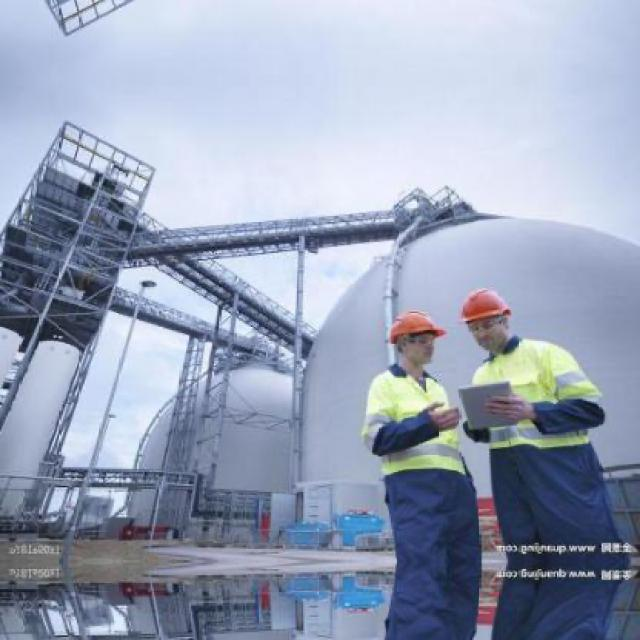helmet: (385, 305, 449, 372), (457, 282, 517, 350)
